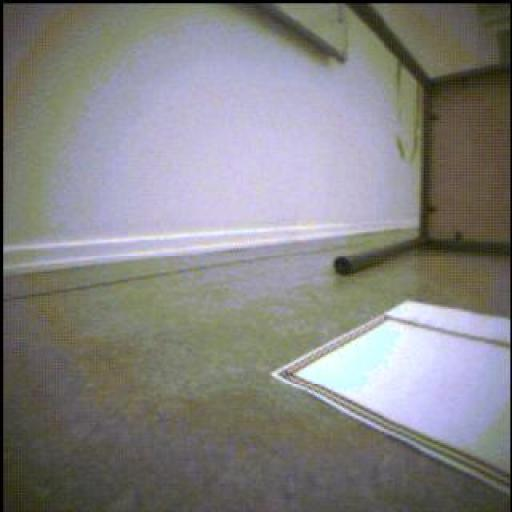Pad: (275, 302, 512, 494)
